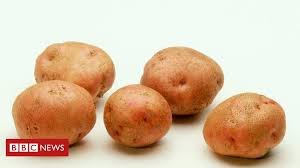potato: (6, 74, 91, 147), (208, 83, 285, 162), (102, 83, 179, 157), (143, 38, 212, 114), (33, 38, 111, 92)
